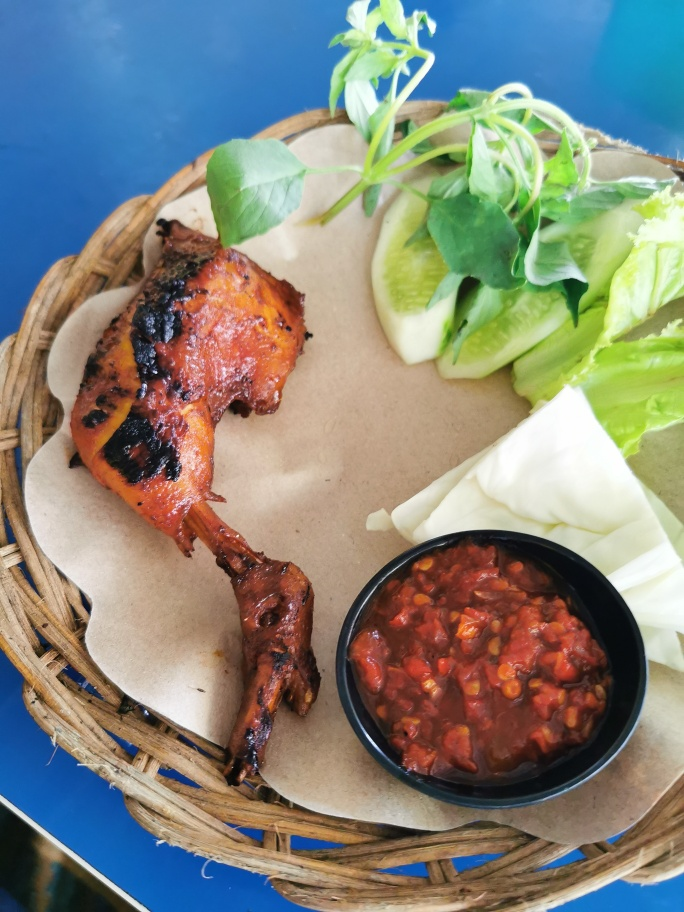ayam bakar: (45, 208, 347, 777)
